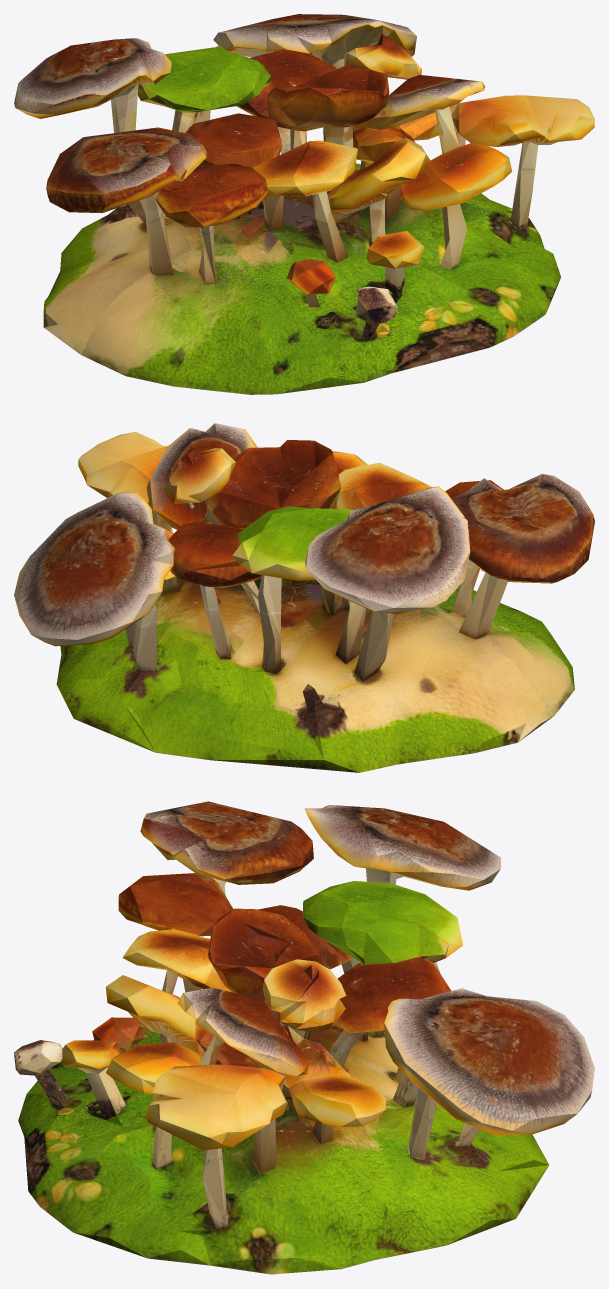
3 renders of one model, top to bottom at view 1: azimuth 30°, elevation 25°; view 2: azimuth 150°, elevation 25°; view 3: azimuth 270°, elevation 25°, orthographic. The views are drawn at different scales.
Bounding box in the file's own units: 1.89 × 0.816 × 1.65.
Materials: 1 (1 with a texture image).
